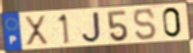0: (161, 7, 183, 40)
1: (56, 13, 71, 46)
5: (105, 9, 129, 43)
J: (80, 11, 103, 45)
S: (132, 7, 159, 42)
X: (23, 14, 51, 47)
